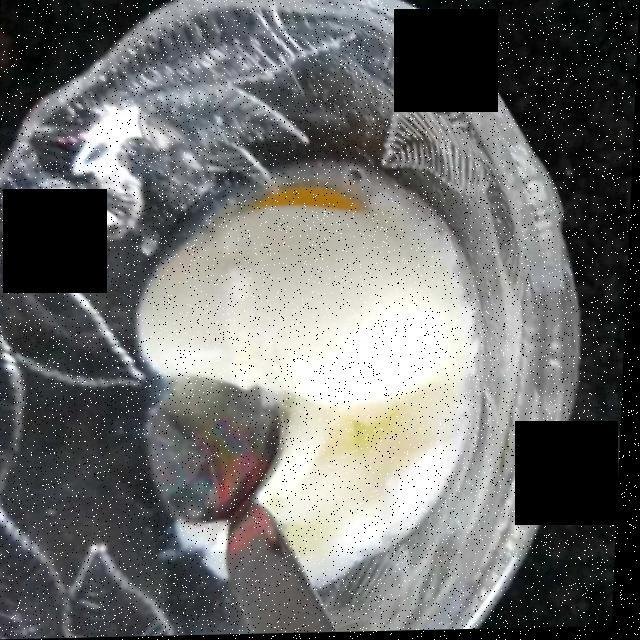egg: (145, 169, 476, 575)
